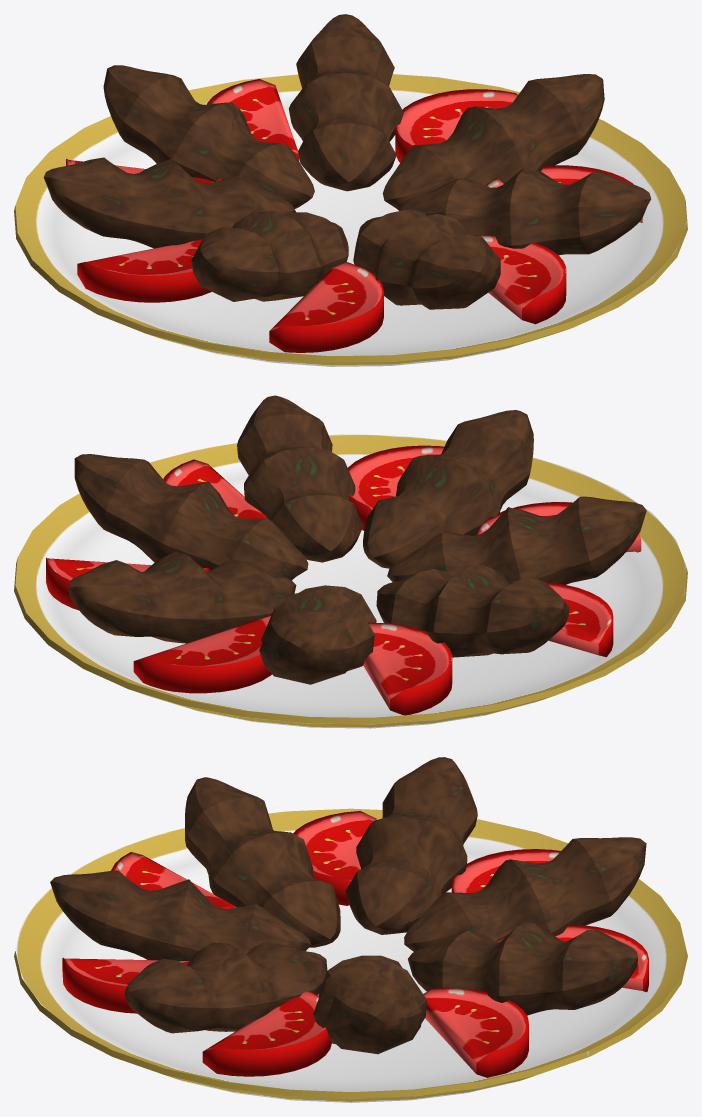
Rendered from TabakDomatesÇiğköfte.fbx.
3 views of the same model, one above another, from view 1: azimuth 30°, elevation 25°; view 2: azimuth 150°, elevation 25°; view 3: azimuth 270°, elevation 25° (orthographic).
Parts seen in each view (by area): view 1: TabakÇiğköfteDomates; view 2: TabakÇiğköfteDomates; view 3: TabakÇiğköfteDomates.
Part boxes in pixels (<box>): TabakÇiğköfteDomates: <box>14,14,687,366</box>; TabakÇiğköfteDomates: <box>14,395,687,728</box>; TabakÇiğköfteDomates: <box>14,757,687,1102</box>.
Bounding box in the file's own units: 0.8717 × 0.1457 × 0.8717.
